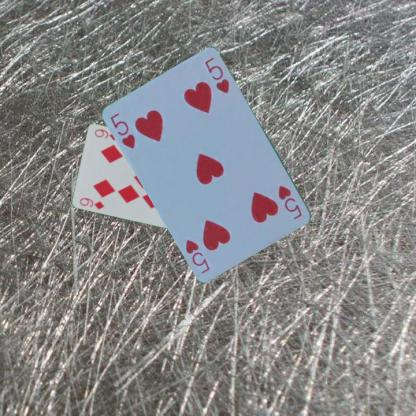5h: (107, 110, 137, 150), (276, 182, 304, 220)
9d: (77, 195, 106, 210)
